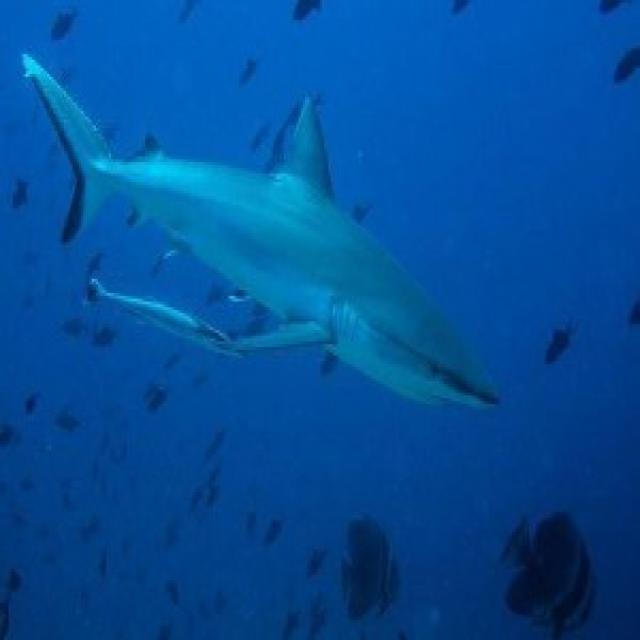Shark: (16, 36, 517, 427), (89, 280, 247, 354)
